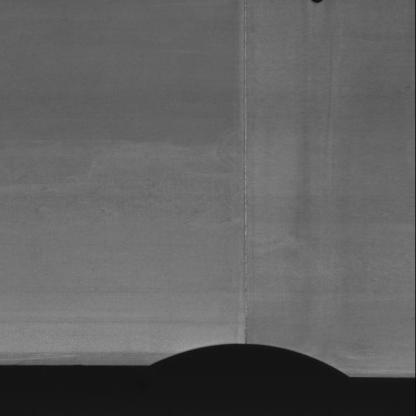crescent_gap: (143, 337, 354, 388)
welding_line: (232, 0, 257, 345)
